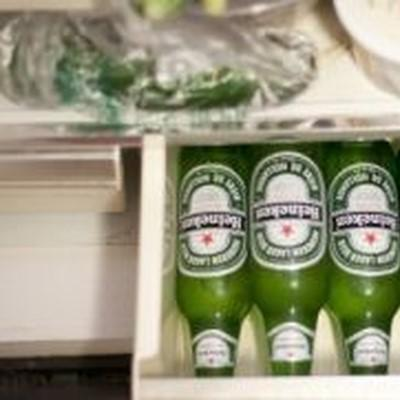beer: (174, 145, 400, 378)
